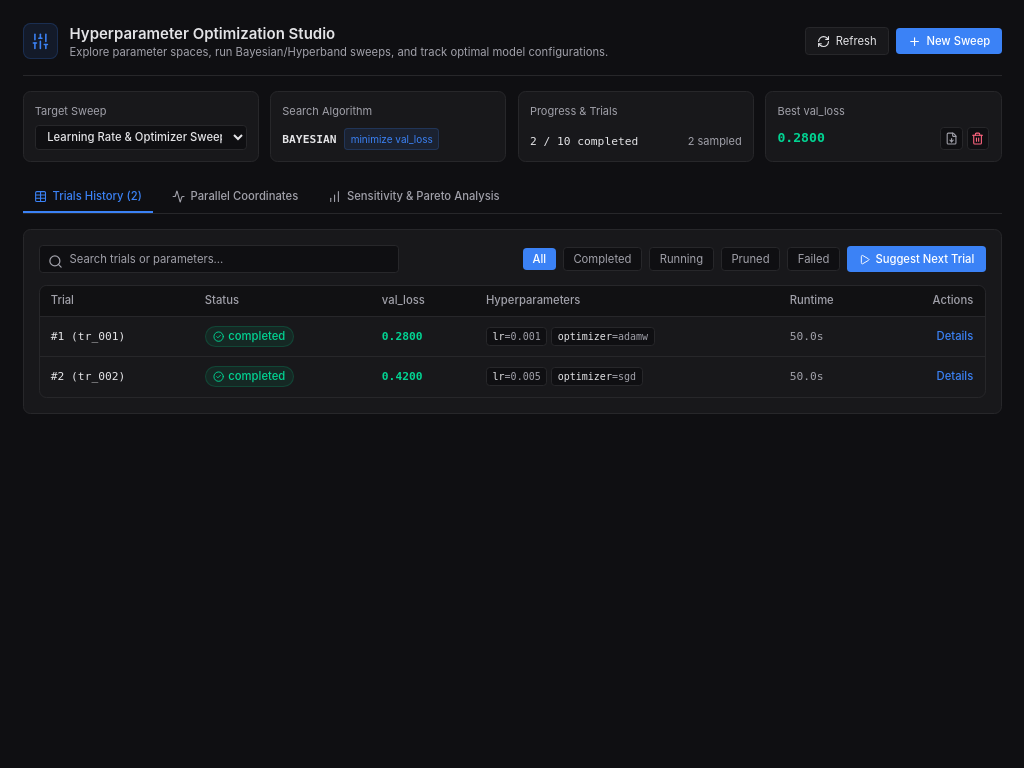
SweepStudio Component › switches to Parallel Coordinates tab
Click the button "Parallel Coordinates" at [235, 197], box [160,181,309,213]
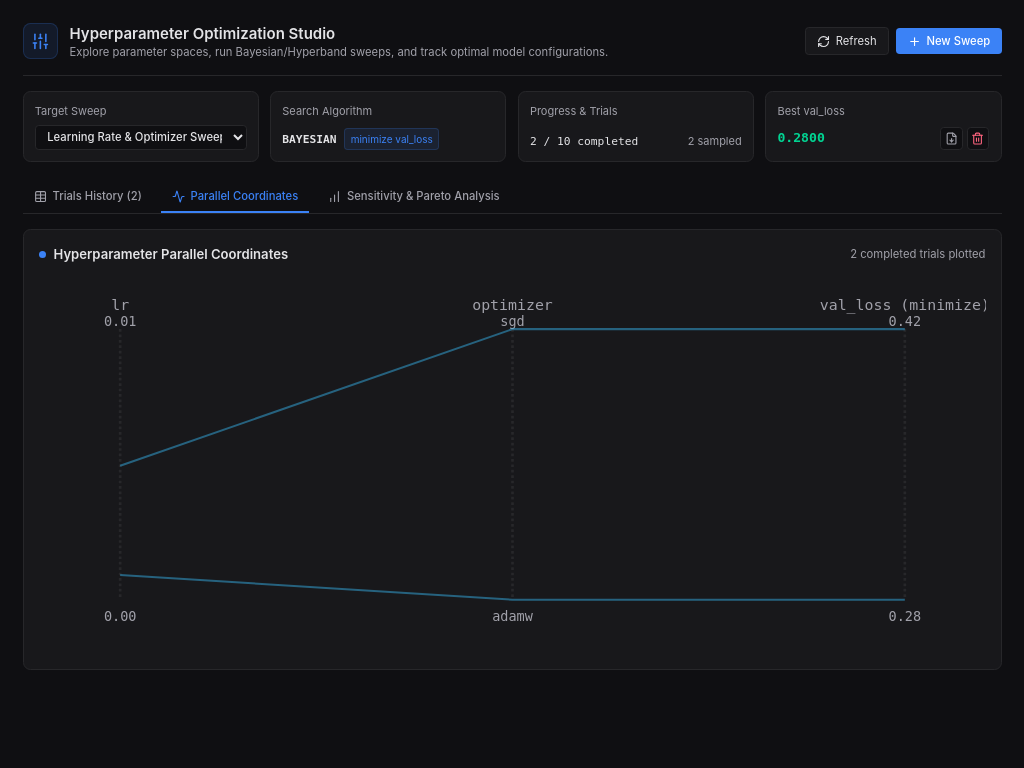
Check: the heading "Hyperparameter Parallel Coordinates" is shown, box [38,245,288,264]
Check: the text "2 completed trials plotted" is shown, box [850,247,986,262]
